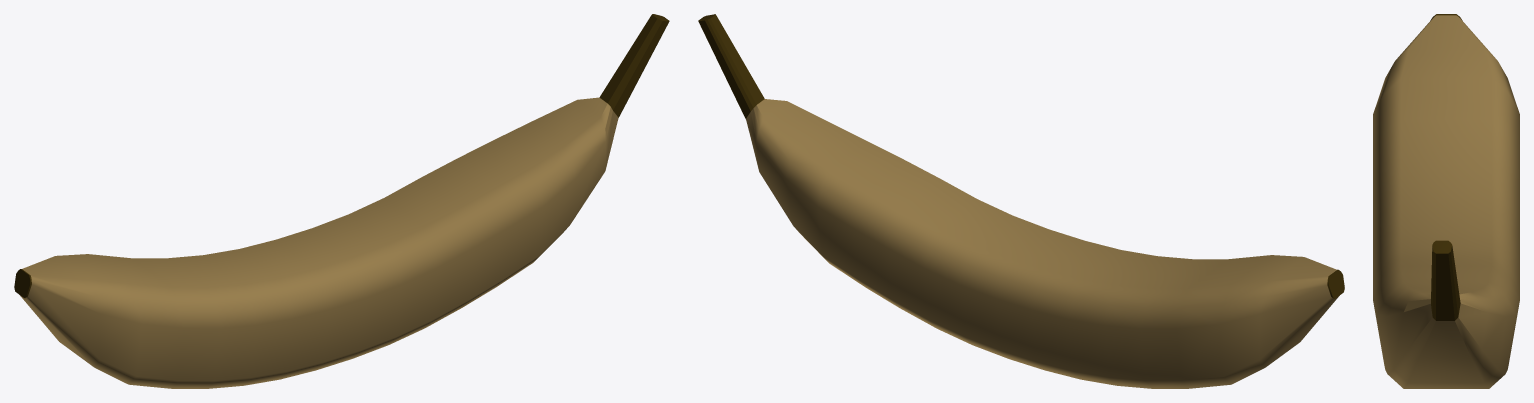
File: Banana.fbx
3 renders of one model, left to right at view 1: azimuth 30°, elevation 25°; view 2: azimuth 150°, elevation 25°; view 3: azimuth 270°, elevation 25°, orthographic. The views are drawn at different scales.
Parts seen in each view (by area): view 1: Banana; view 2: Banana; view 3: Banana.
Boxes of the visible parts, x1,y1,x2,y2 form: Banana: [14, 14, 669, 388]; Banana: [698, 14, 1344, 388]; Banana: [1373, 14, 1519, 388].
Bounding box in the file's own units: 10.82 × 4.06 × 1.9.
